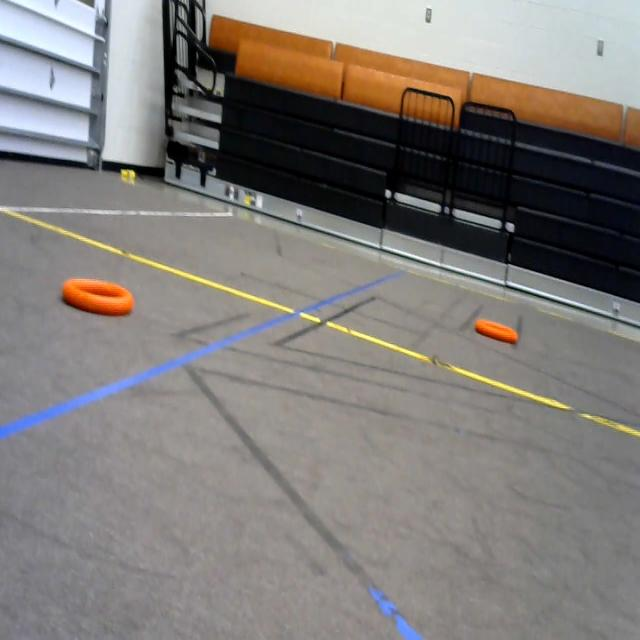note: (47, 269, 141, 320), (476, 307, 523, 348)
